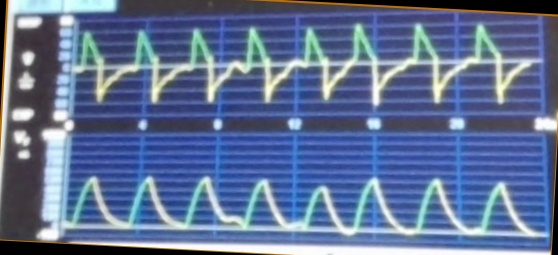Ineffective_effort Flow: (78, 20, 528, 114)
Ineffective_effort Volume: (68, 169, 537, 242)
